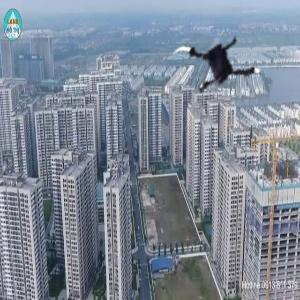drone: (169, 17, 272, 120)
